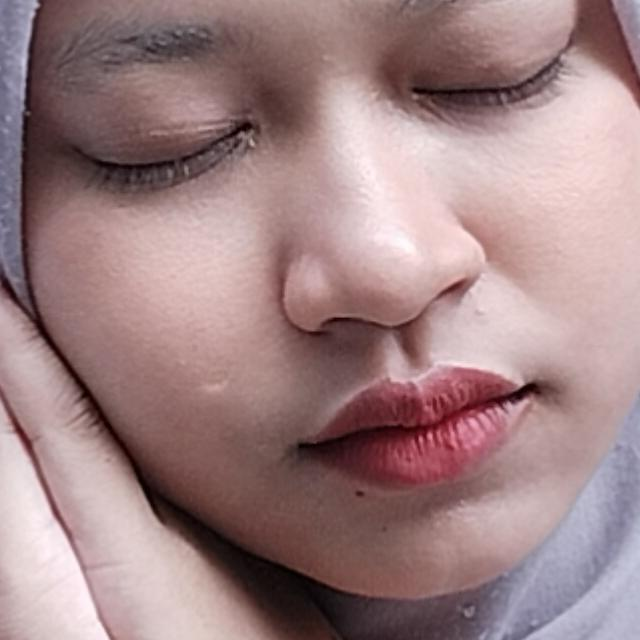tidur: (0, 28, 526, 640)
